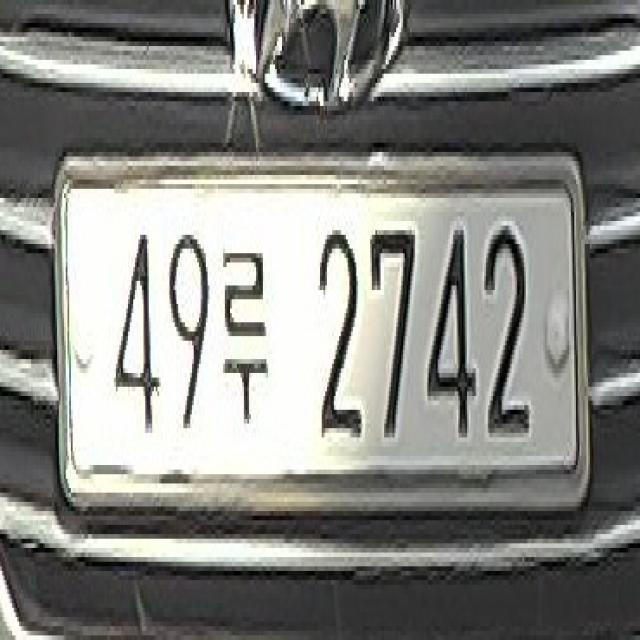2: (314, 215, 366, 450), (482, 226, 534, 452)
4: (422, 216, 479, 459), (110, 228, 167, 454)
7: (367, 214, 415, 451)
9: (169, 228, 214, 451)
license_plate: (47, 126, 594, 536)
lu: (217, 236, 271, 434)
